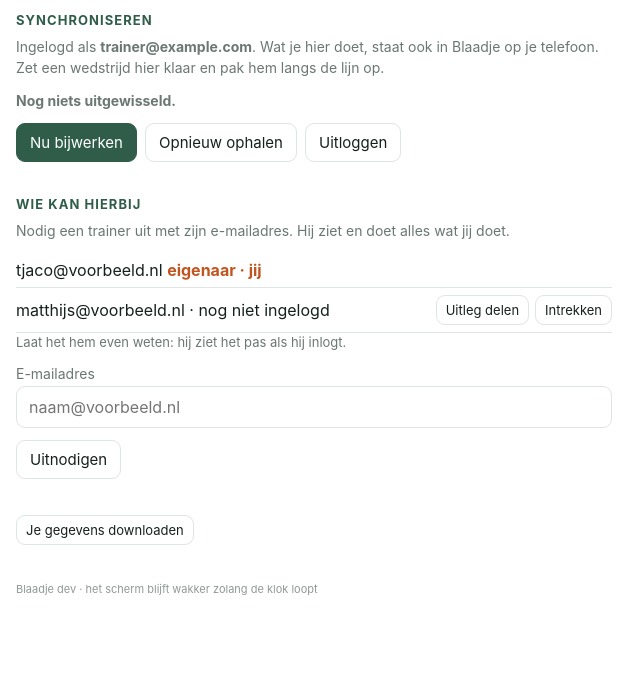
Test: het gegevensscherm als je ingelogd bent › geeft de uitleg door via het deelvenster van het toestel
Click the button "Uitleg delen". click: (482, 310)
box: [436,295,529,325]
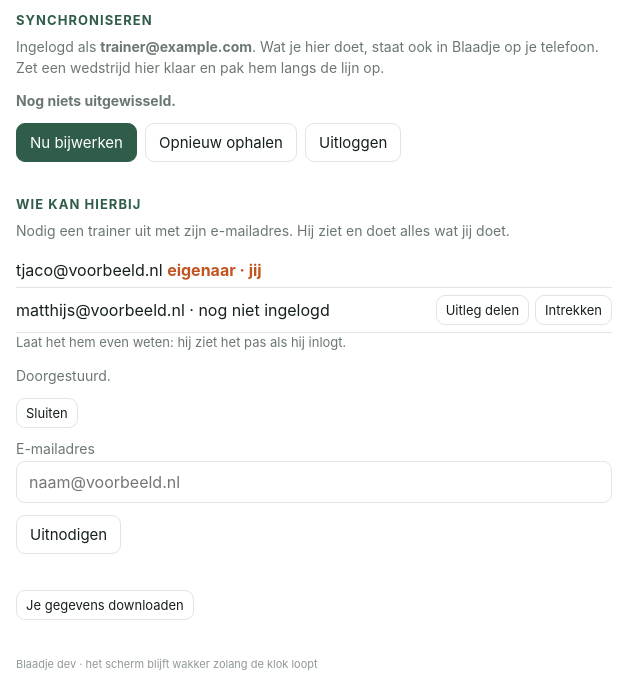
Result: the text "Doorgestuurd" is shown at [16,366,111,384]
